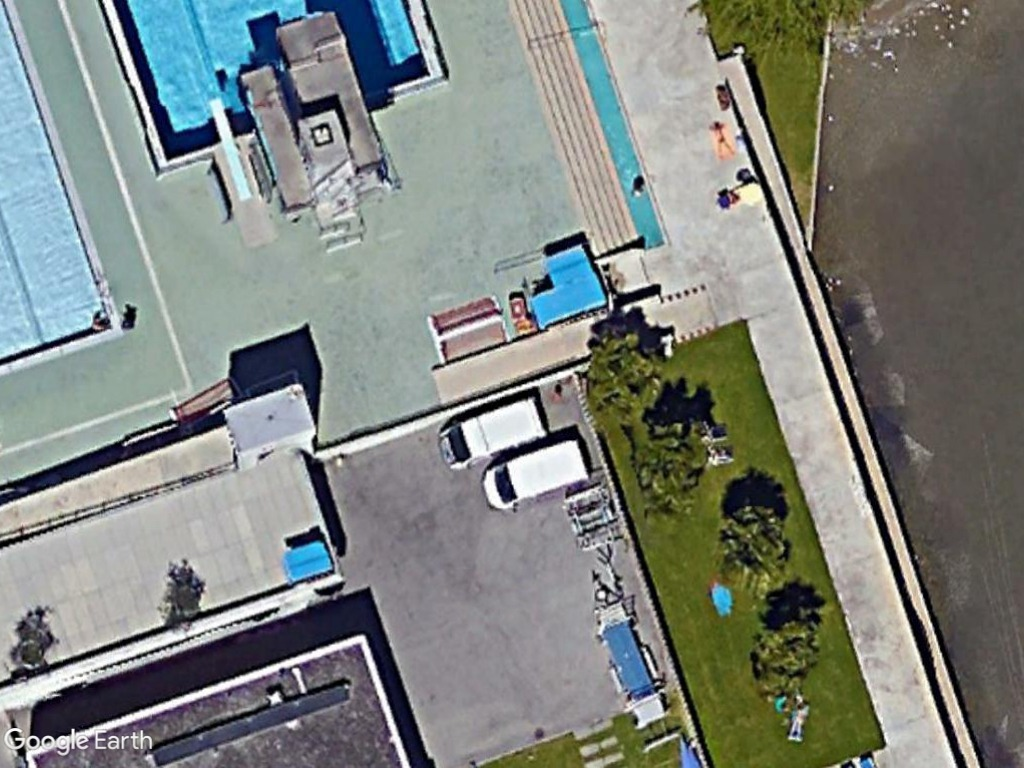van: (433, 393, 552, 477), (480, 434, 599, 513)
